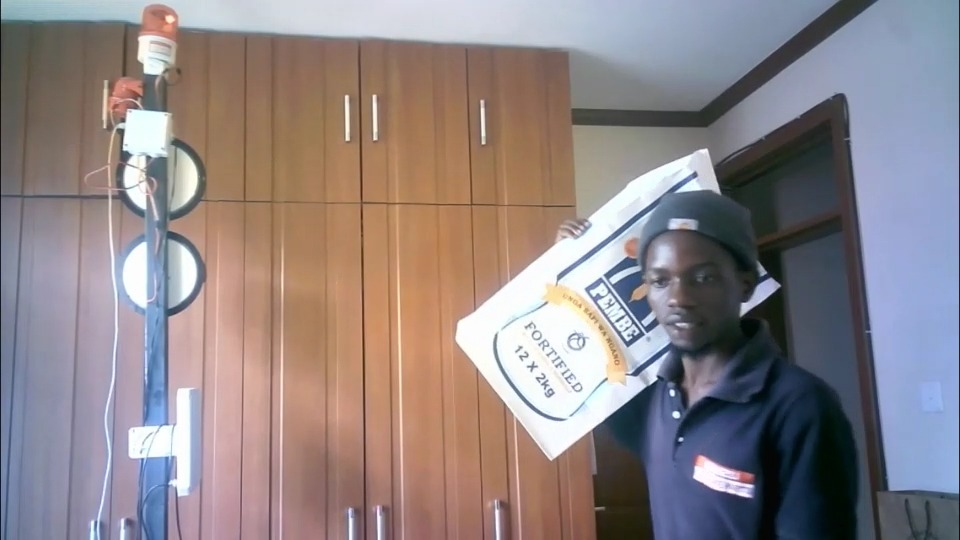wheat_flour_blue_label: (454, 150, 778, 456)
